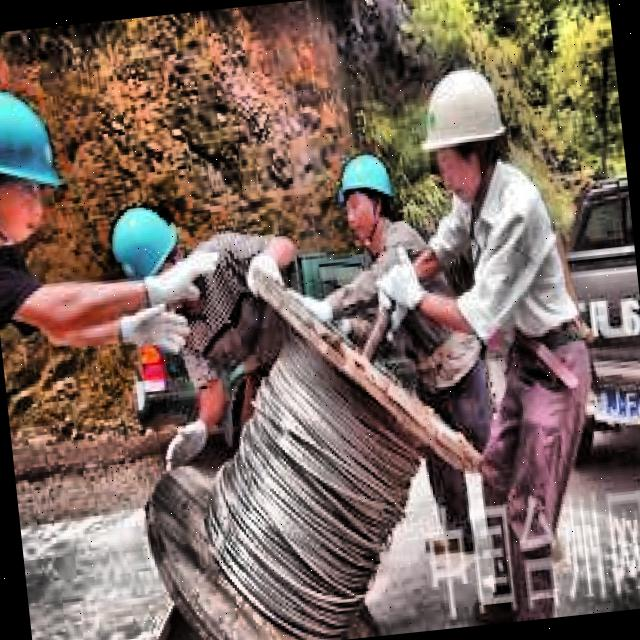helmet: (406, 51, 522, 213), (0, 72, 73, 263), (100, 198, 186, 298), (330, 147, 402, 250)
